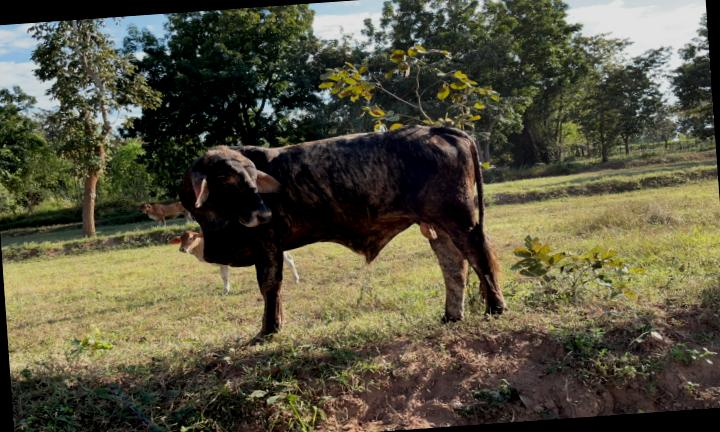Charolais: (180, 125, 504, 341)
